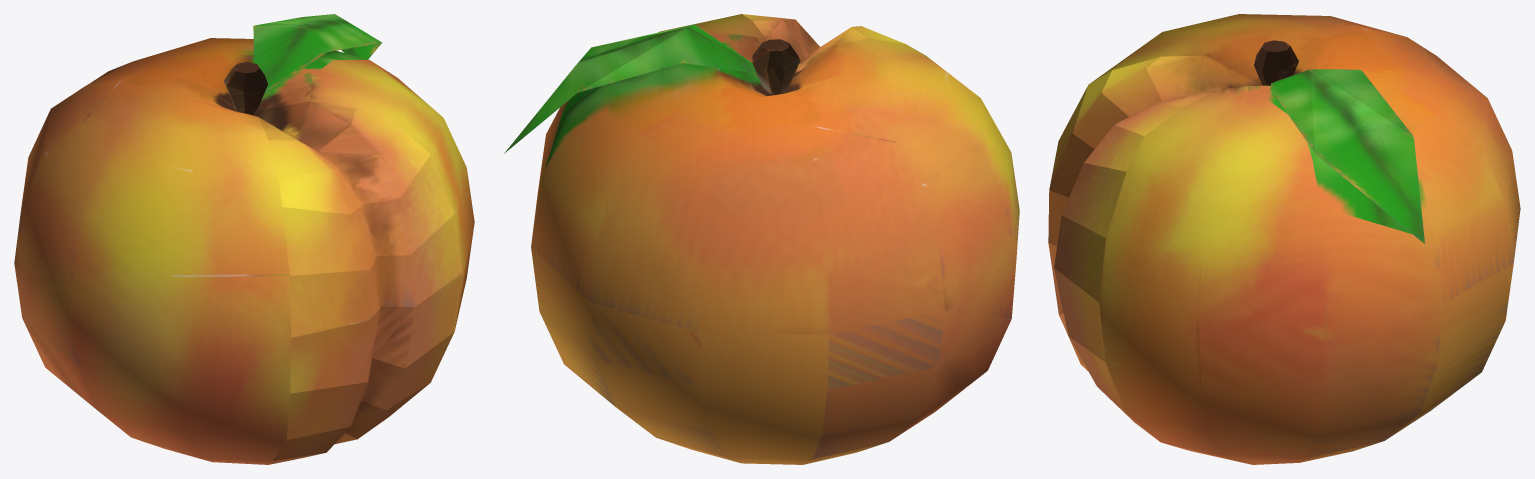
Rendered from g9zWzN.obj.
3 renders of one model, left to right at view 1: azimuth 30°, elevation 25°; view 2: azimuth 150°, elevation 25°; view 3: azimuth 270°, elevation 25°, orthographic. The views are drawn at different scales.
Parts seen in each view (by area): view 1: edges; view 2: edges; view 3: edges.
Boxes of the visible parts, bbox=[...] form: edges: bbox=[14, 14, 474, 464]; edges: bbox=[504, 14, 1019, 464]; edges: bbox=[1048, 14, 1520, 464].
Bounding box in the file's own units: 3.7 × 3.44 × 3.57.
Materials: 1 (1 with a texture image).
